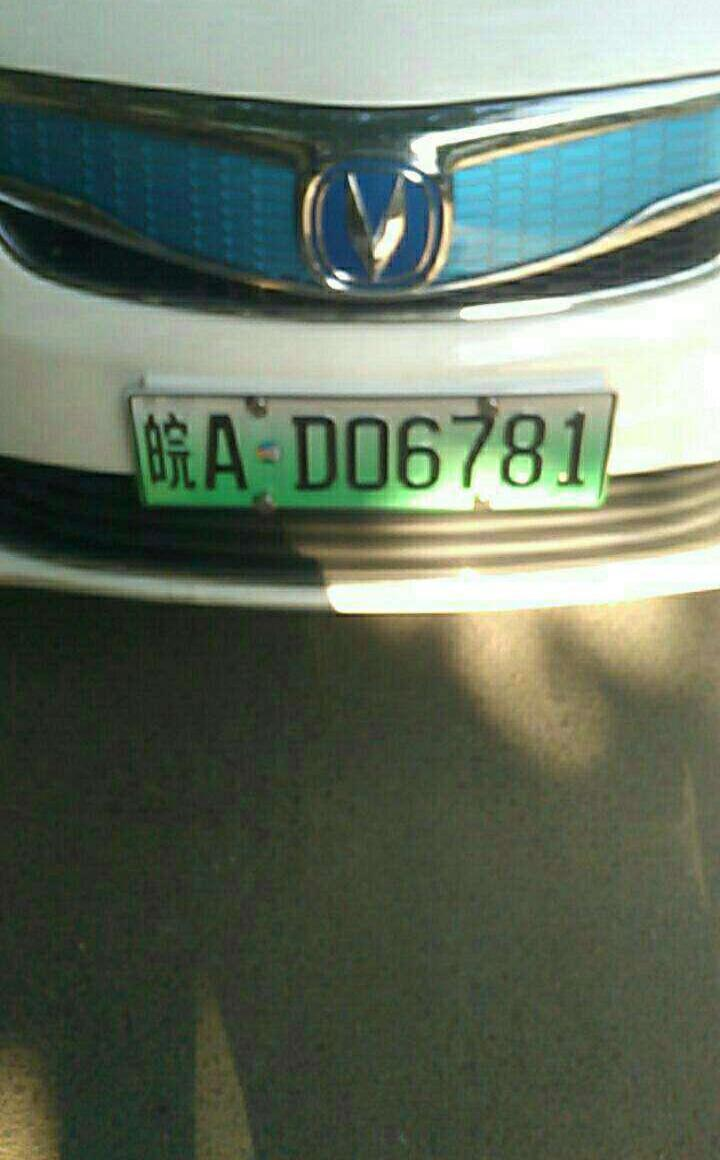car_id: (129, 389, 617, 506)
